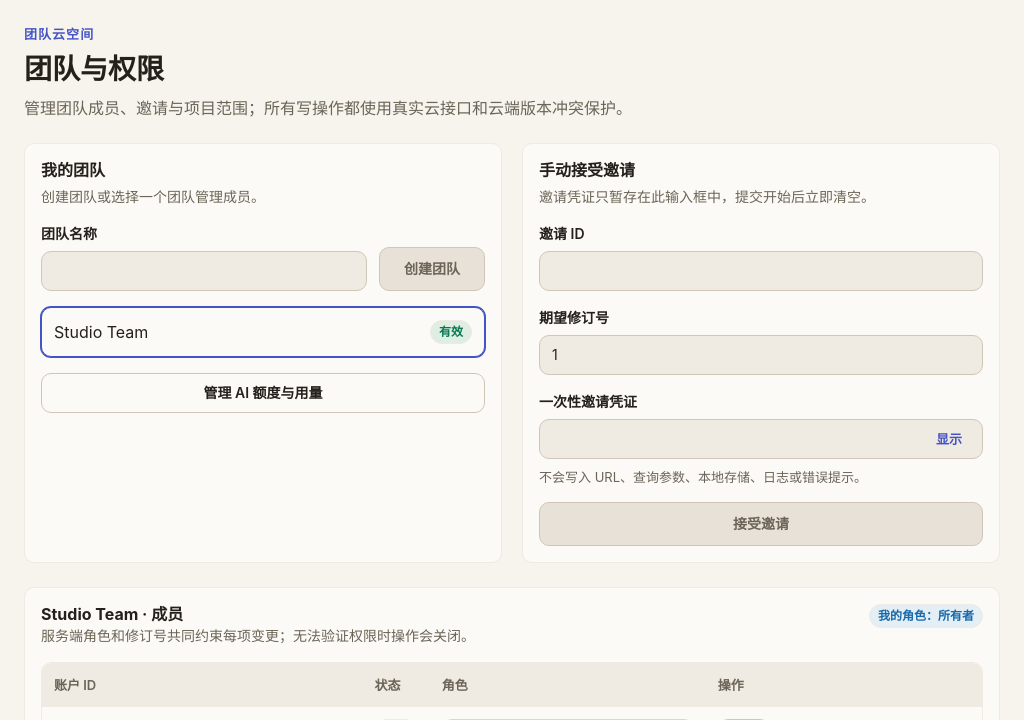
Test case: StudioTeamPage › renders a visible revision conflict and keeps retry/error states actionable
The width and height of the screenshot is (1024, 720).
Check: the text "Studio Team" is shown, box top-left (54, 322), bottom-right (148, 342)
Type "New Studio" into the field labelled "团队名称" at (204, 271), box top-left (54, 252), bottom-right (354, 290)
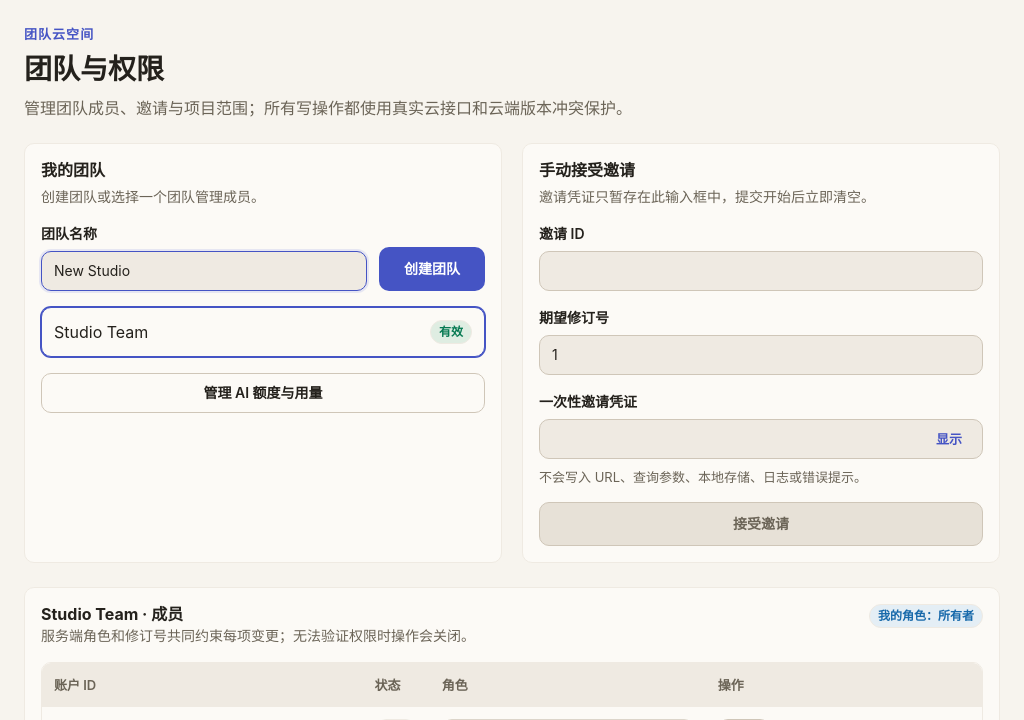
Click the button "创建团队" at (432, 269), box top-left (379, 247), bottom-right (485, 291)
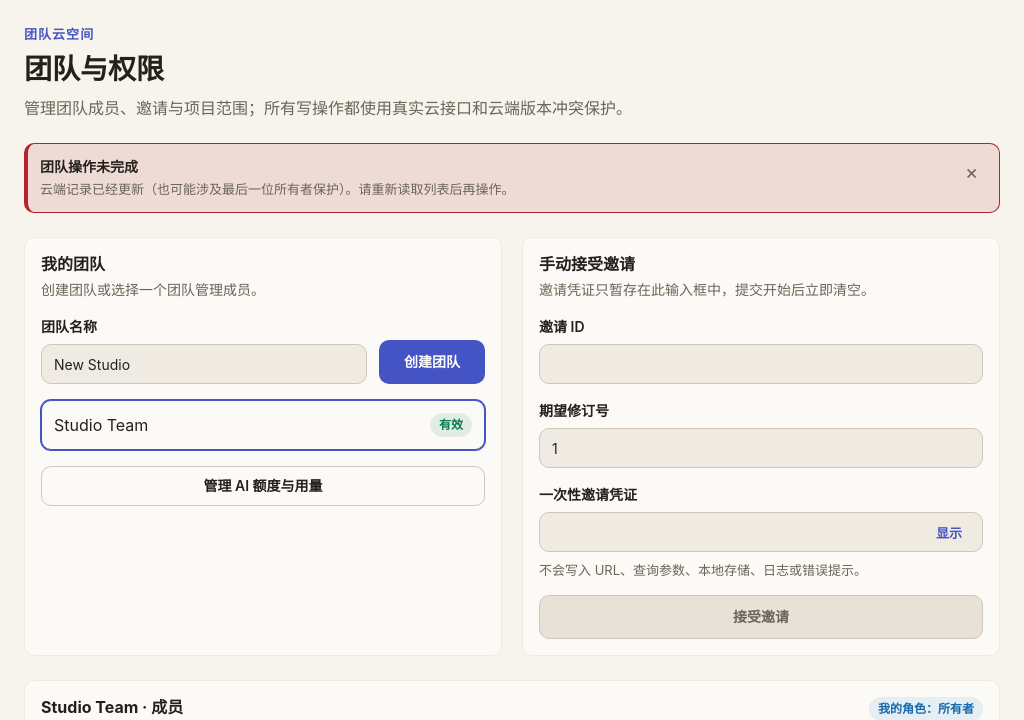
Check: the text "团队操作未完成" is shown, box top-left (40, 158), bottom-right (138, 175)
Check: the text "云端记录已经更新（也可能涉及最后一位所有者保护）。请重新读取列表后再操作。" is shown, box top-left (40, 181), bottom-right (514, 197)
